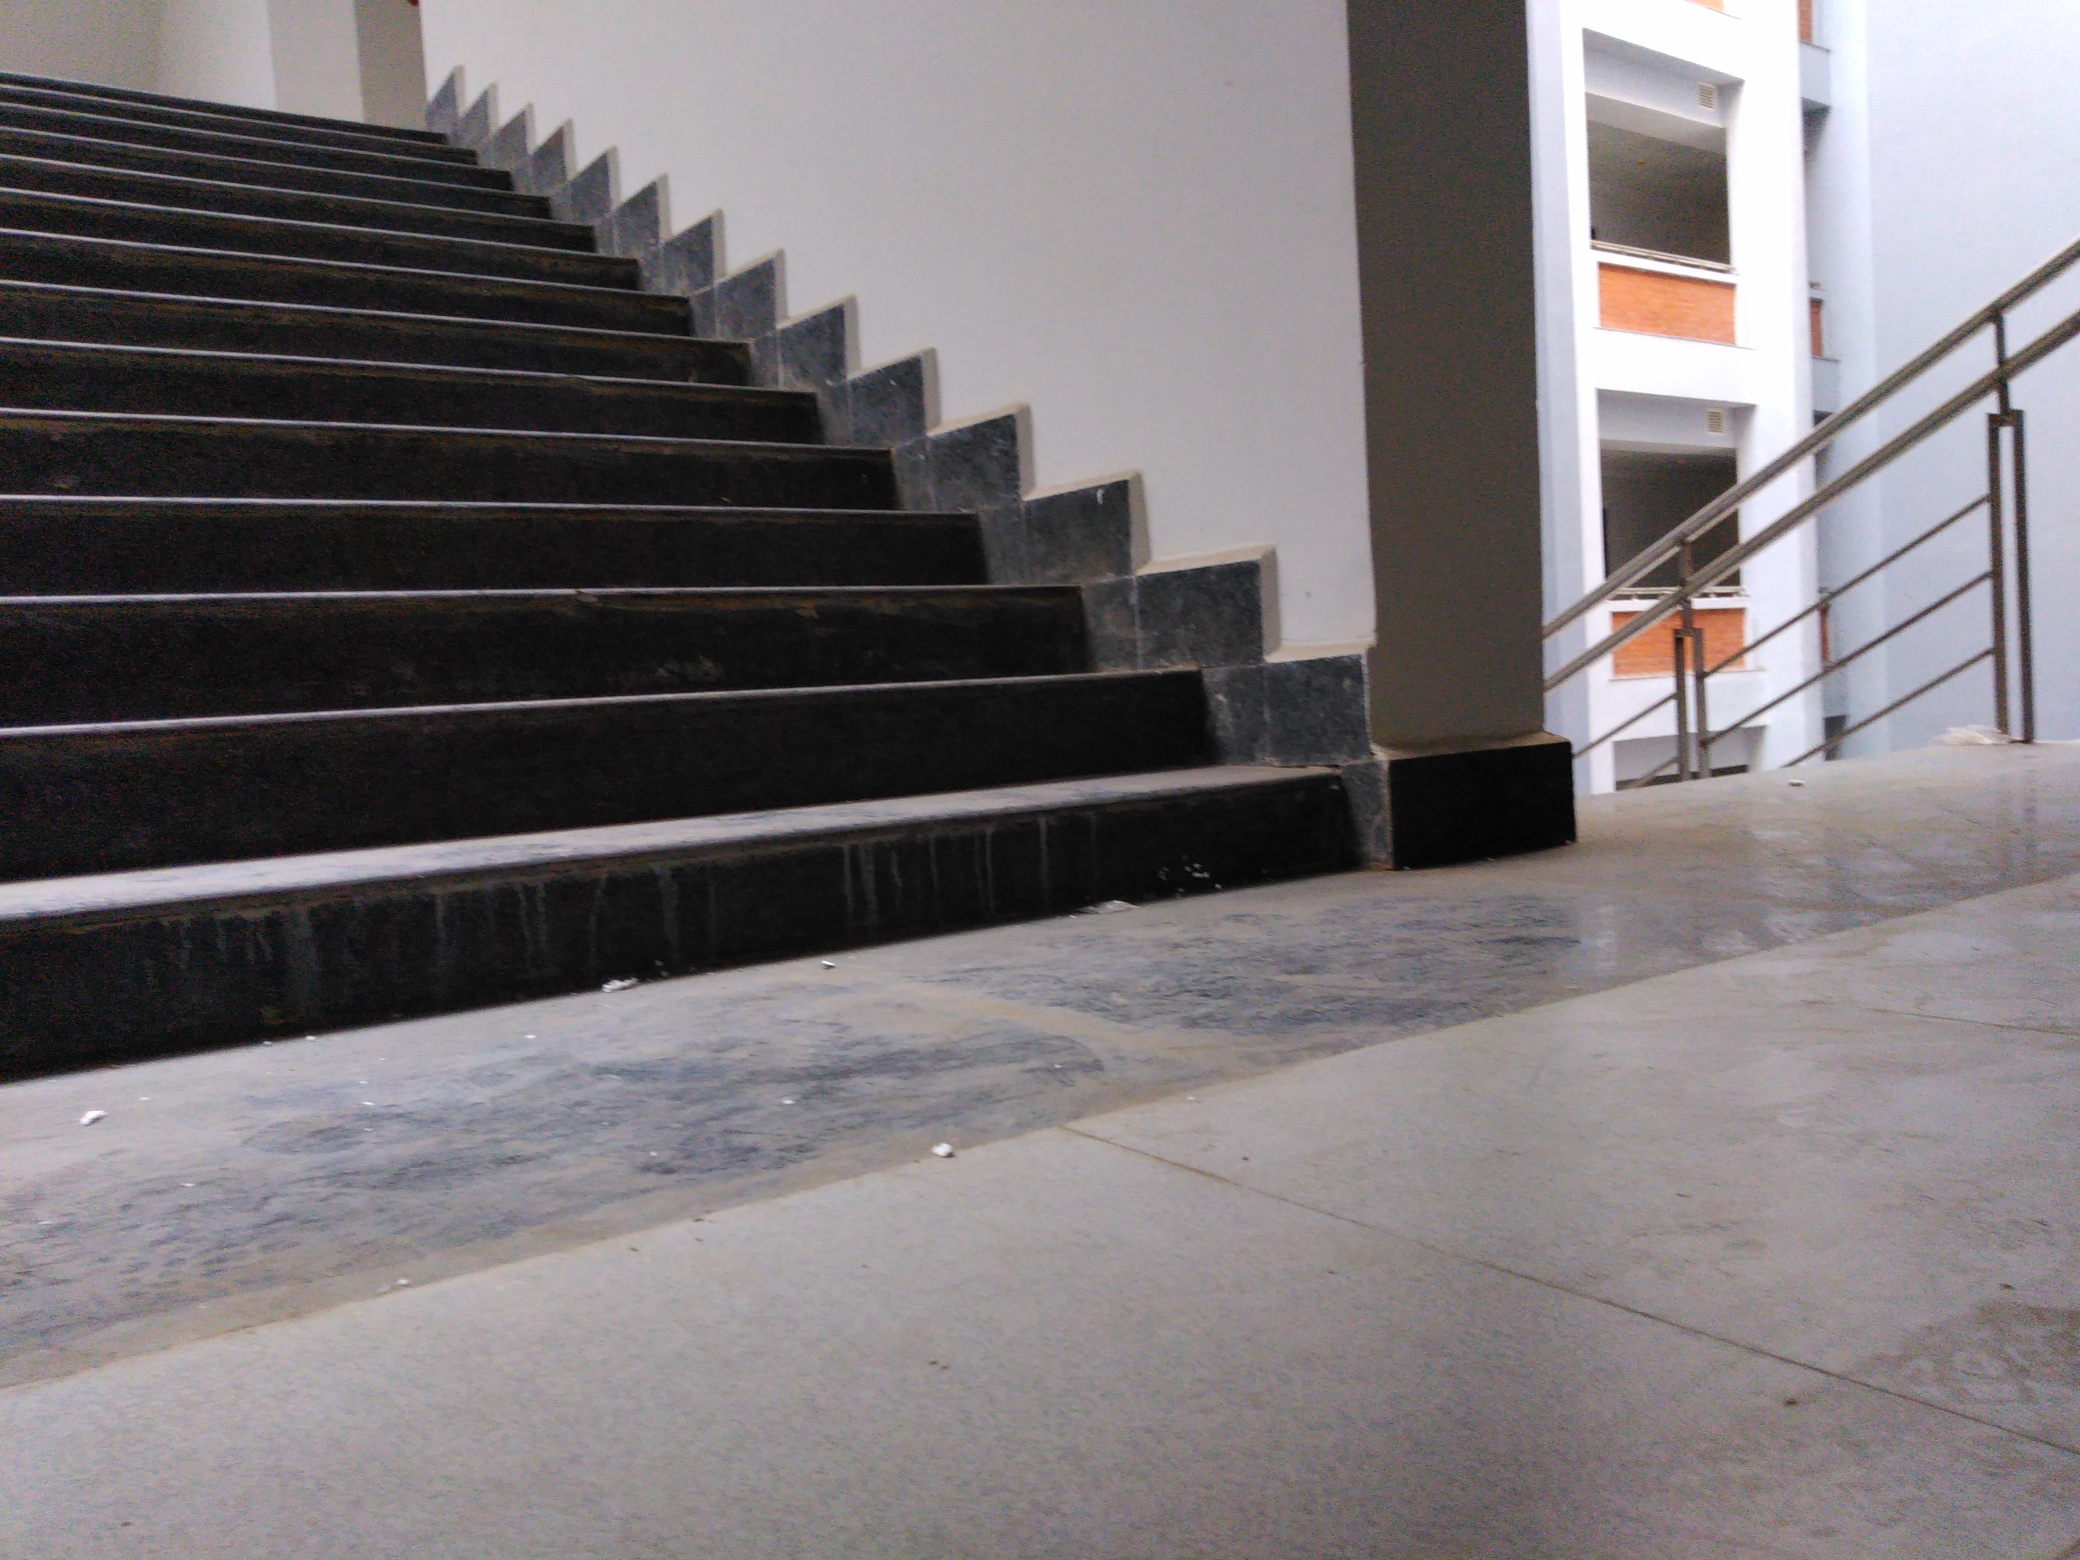stairs_up: (15, 87, 1017, 905)
